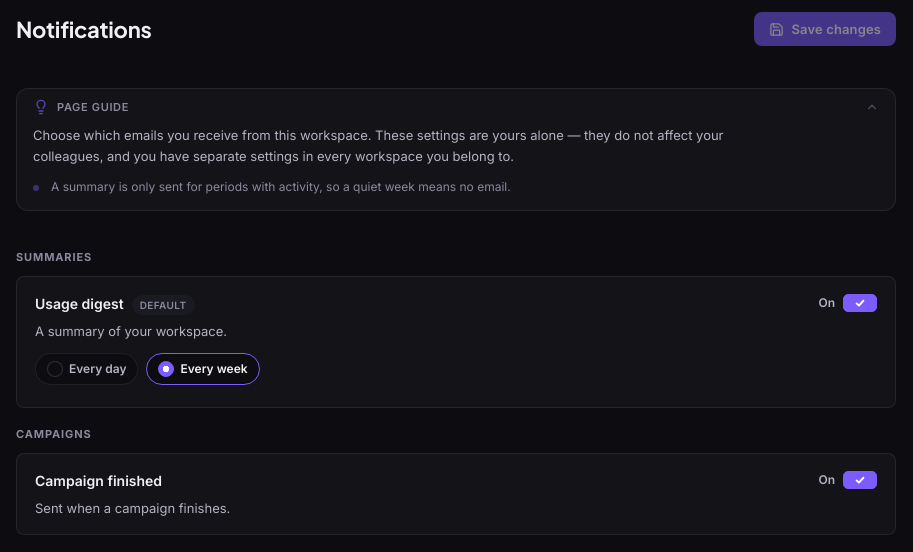
it: NotificationSettingsPage › saving › reports how many changes are pending
The image size is (913, 552).
Click the switch named "Campaign finished enabled".
click(860, 480)  # box left=843, top=471, right=877, bottom=489
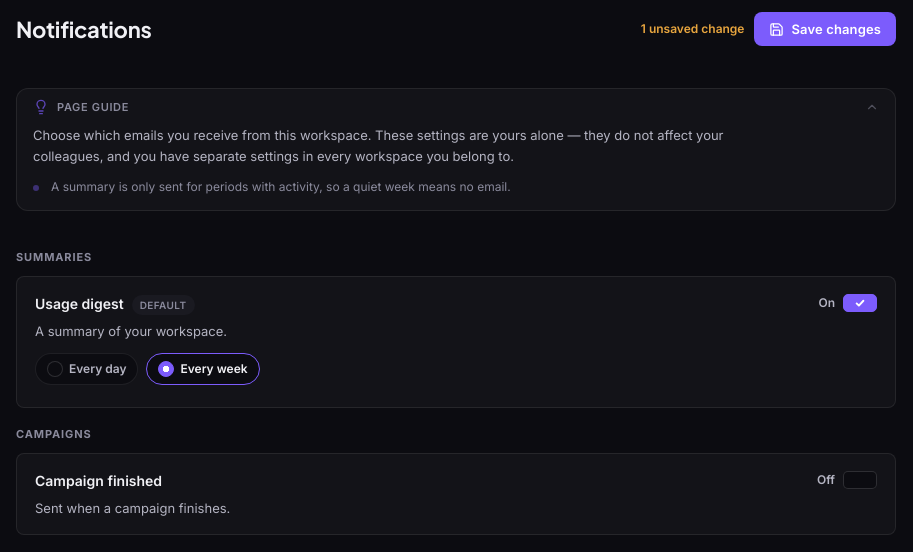
Now the text "1 unsaved change" is shown, box left=641, top=19, right=744, bottom=39
